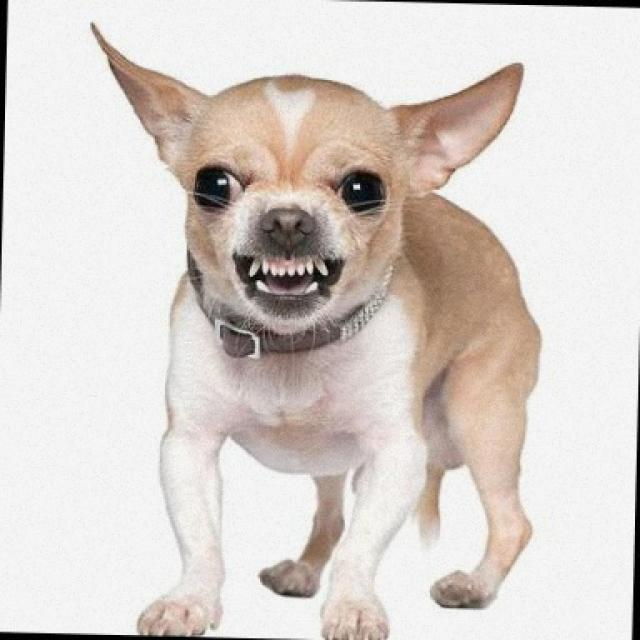angry: (69, 0, 582, 640)
